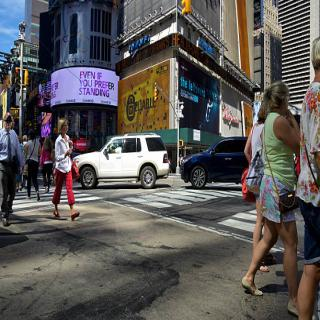Normal_vehicle: (75, 128, 169, 196), (179, 131, 250, 196)
